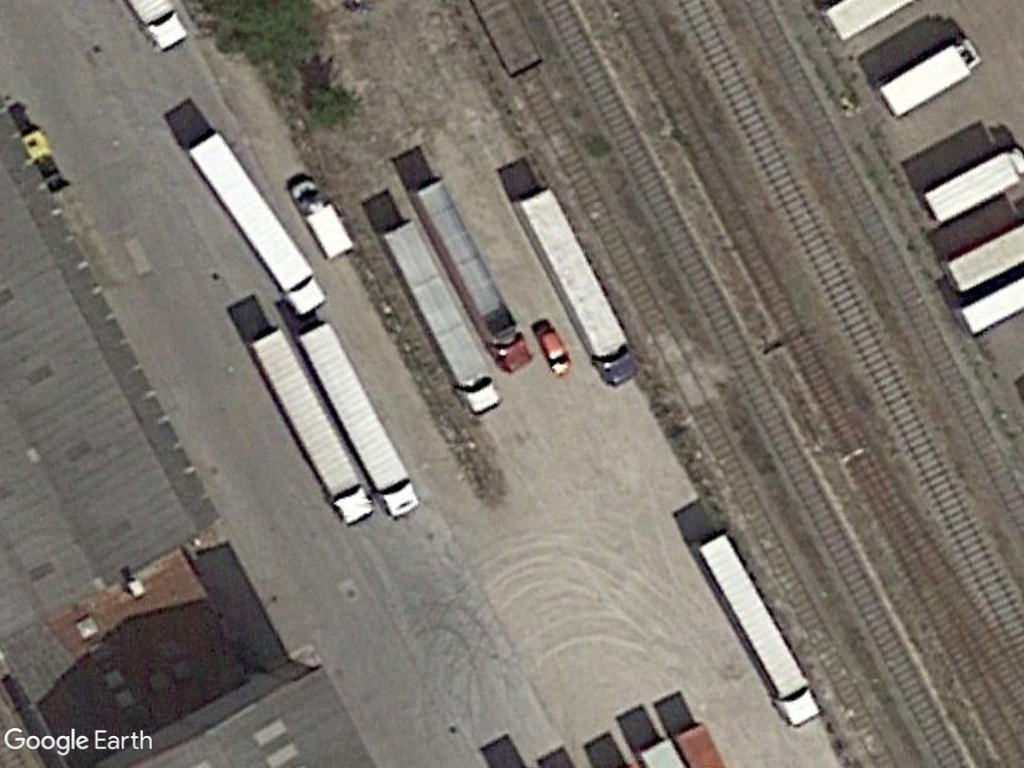car: (533, 320, 574, 381)
longvehicle: (688, 523, 828, 734), (178, 127, 329, 320), (240, 318, 374, 530), (406, 166, 535, 379), (371, 214, 504, 420), (509, 179, 639, 389), (297, 318, 424, 524)
truck: (873, 36, 984, 126), (919, 140, 1024, 227), (285, 176, 358, 265)
